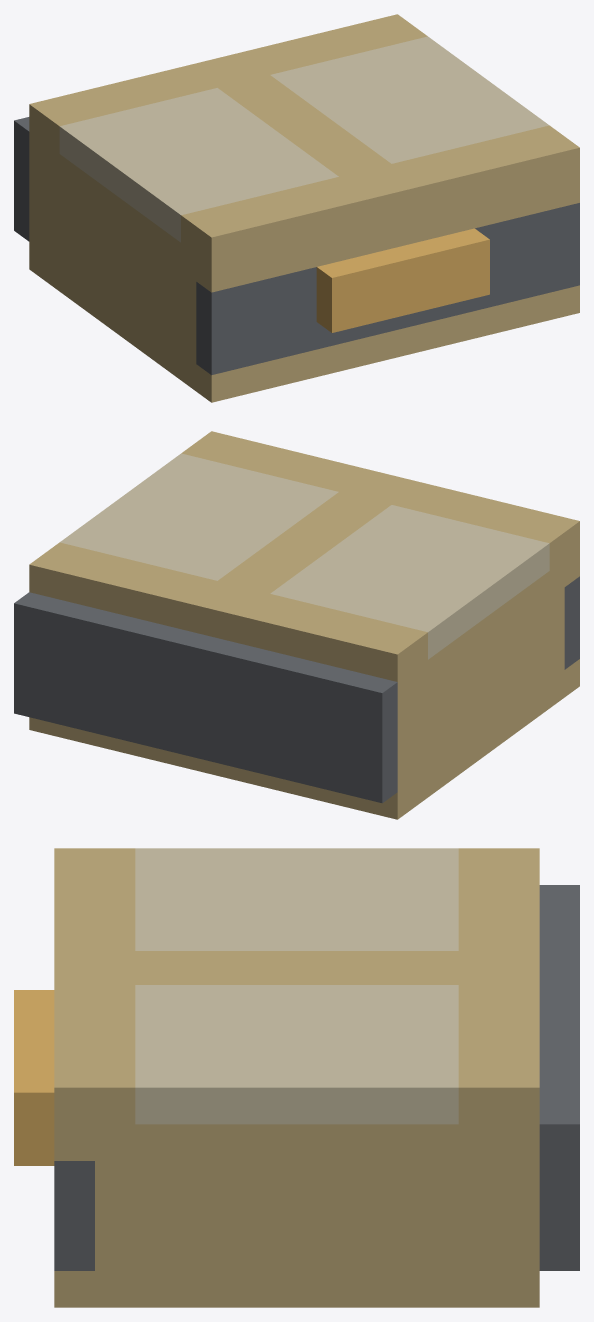
Rendered from head.glb.
3 views of the same model, one above another, from view 1: azimuth 30°, elevation 25°; view 2: azimuth 150°, elevation 25°; view 3: azimuth 270°, elevation 25° (orthographic). The views are drawn at different scales.
Size of the model in its own units: 14 by 6 by 14.
